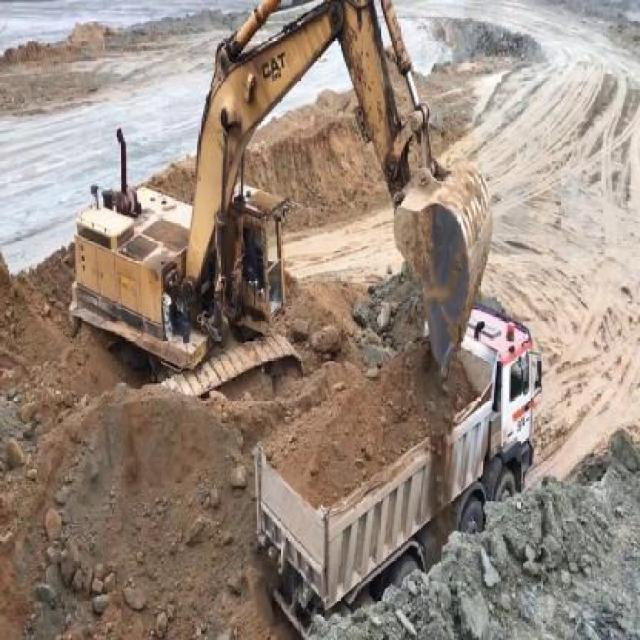Dump Truck: (253, 304, 541, 614)
Excavator: (52, 1, 494, 379)
